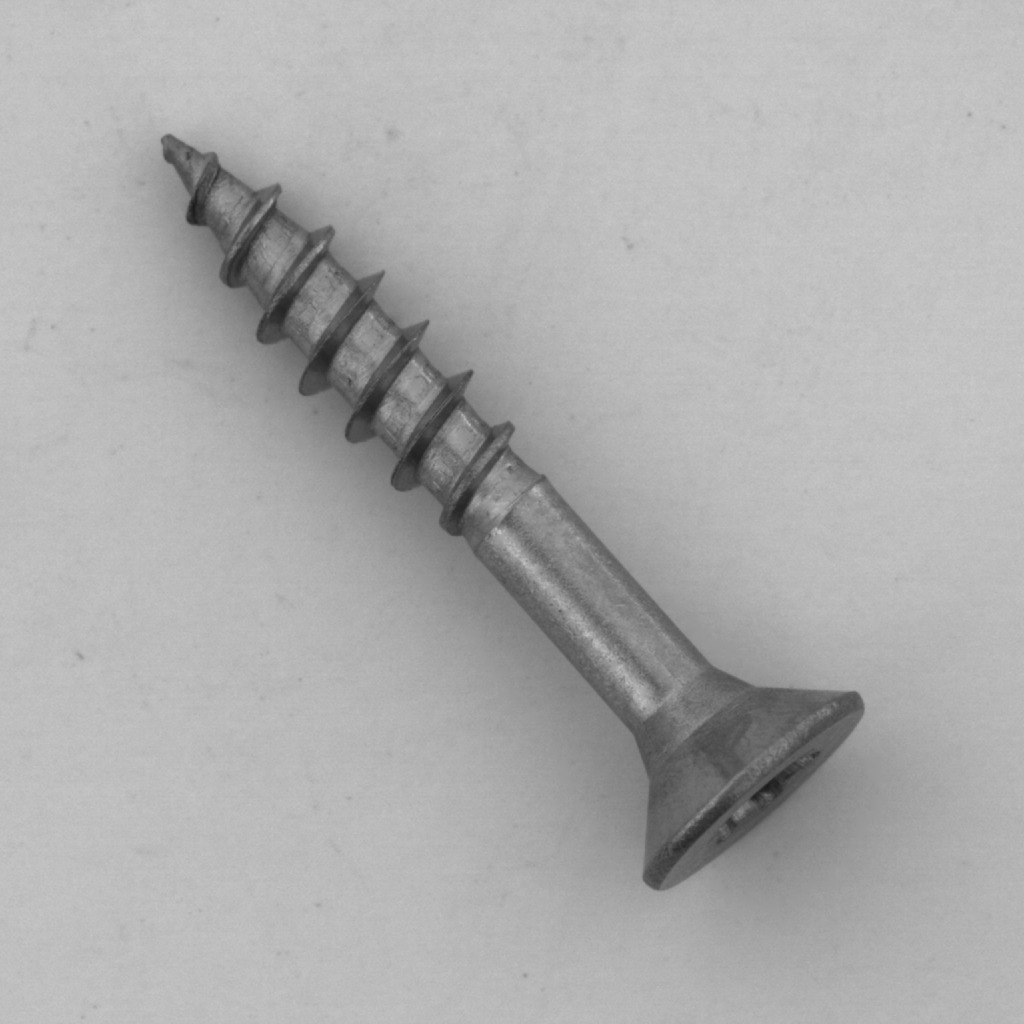good: (141, 117, 879, 909)
